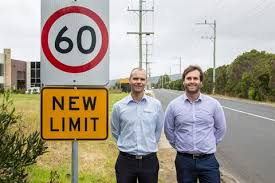sp60: (43, 8, 107, 74)
